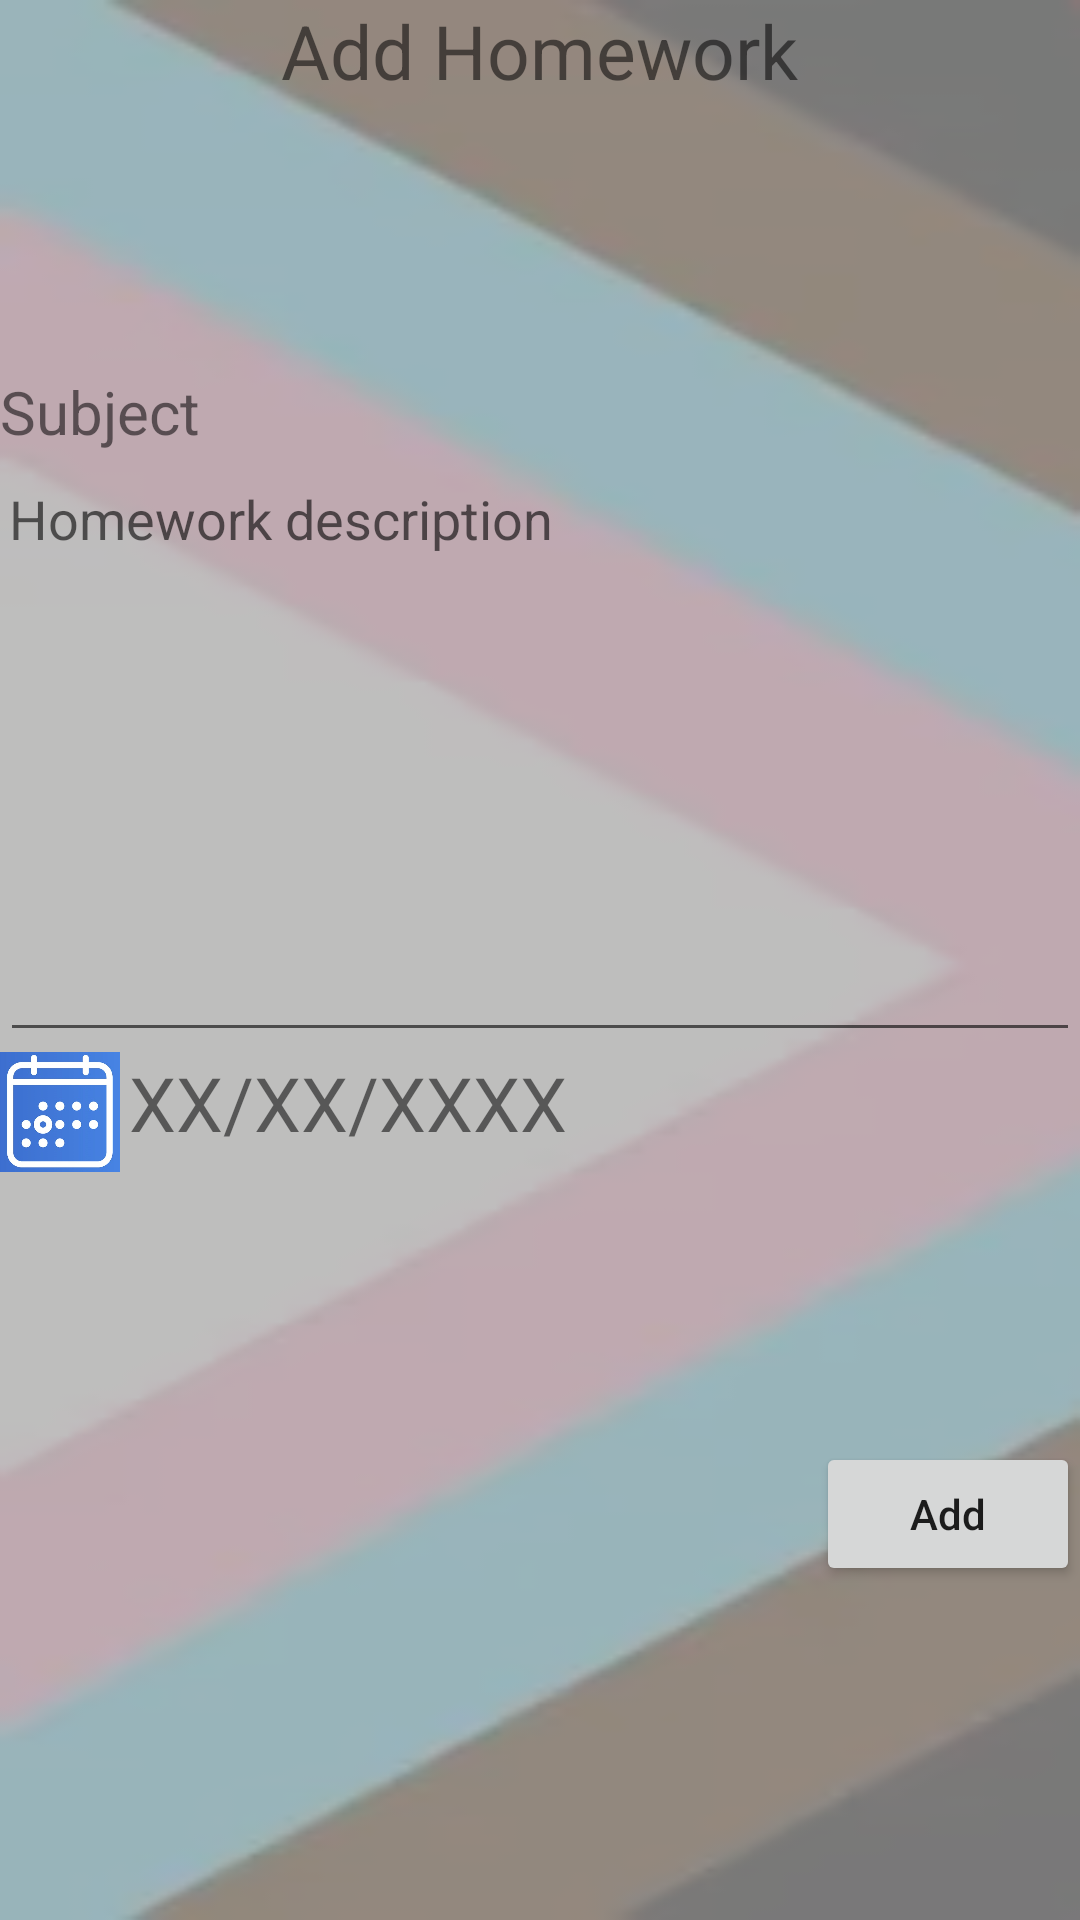

Named icons in this screenshot (1080w x 1920h) and their centers, [x,y]:
calender iv: [60,1112]
